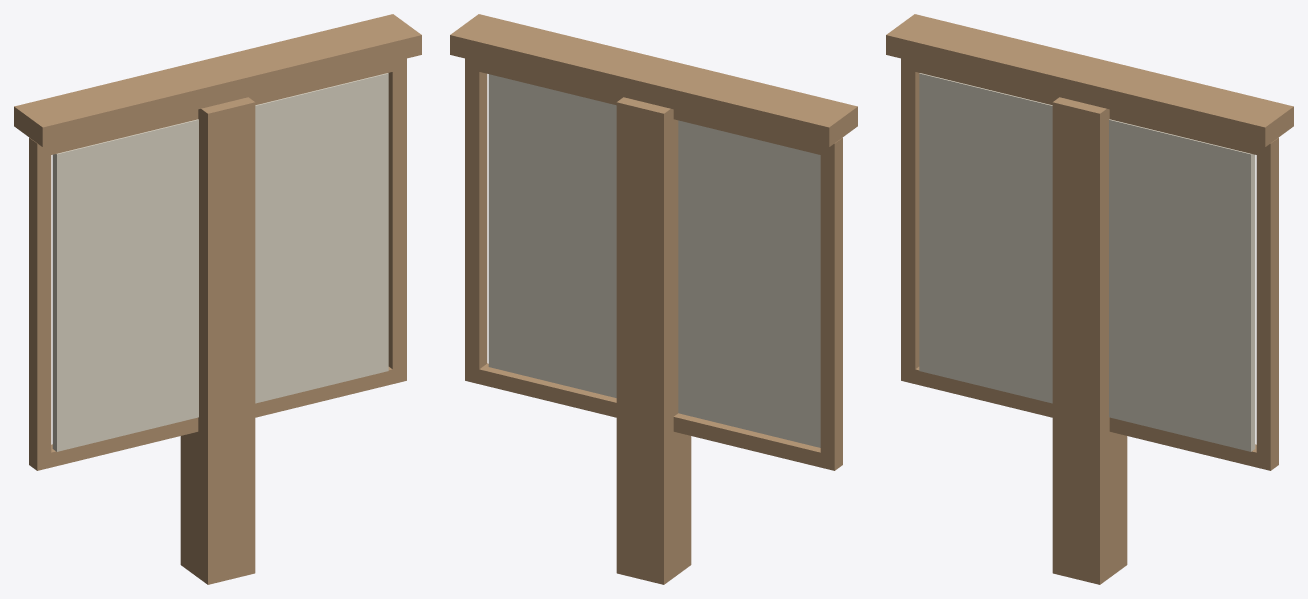
Rendered from notice.glb.
3 renders of one model, left to right at view 1: azimuth 30°, elevation 25°; view 2: azimuth 150°, elevation 25°; view 3: azimuth 330°, elevation 25°, orthographic.
Visible parts, largest first — view 1: NoticeFace, NoticePost, NoticeCap, NoticeRail_-0.75, NoticeRail_0.75, NoticeTop_0.62, NoticeTop_1.88; view 2: NoticeFace, NoticePost, NoticeCap, NoticeRail_-0.75, NoticeRail_0.75, NoticeTop_0.62, NoticeTop_1.88; view 3: NoticeFace, NoticePost, NoticeCap, NoticeRail_0.75, NoticeRail_-0.75, NoticeTop_0.62, NoticeTop_1.88.
Boxes of the visible parts, <box> form: NoticeFace: <box>52,73,388,451</box>; NoticePost: <box>180,97,255,584</box>; NoticeCap: <box>14,14,421,147</box>; NoticeRail_-0.75: <box>29,137,51,470</box>; NoticeRail_0.75: <box>388,58,406,383</box>; NoticeTop_0.62: <box>44,367,399,468</box>; NoticeTop_1.88: <box>46,62,399,155</box>; NoticeFace: <box>488,74,820,447</box>; NoticePost: <box>616,97,691,584</box>; NoticeCap: <box>450,14,857,147</box>; NoticeRail_-0.75: <box>820,137,842,470</box>; NoticeRail_0.75: <box>465,58,487,383</box>; NoticeTop_0.62: <box>472,363,827,468</box>; NoticeTop_1.88: <box>472,60,827,156</box>; NoticeFace: <box>919,73,1255,451</box>; NoticePost: <box>1052,97,1127,584</box>; NoticeCap: <box>886,14,1293,147</box>; NoticeRail_0.75: <box>1256,137,1278,470</box>; NoticeRail_-0.75: <box>901,58,919,383</box>; NoticeTop_0.62: <box>908,367,1263,468</box>; NoticeTop_1.88: <box>908,60,1263,154</box>.
Size of the model in its own units: 1.6 by 2.01 by 0.21.
